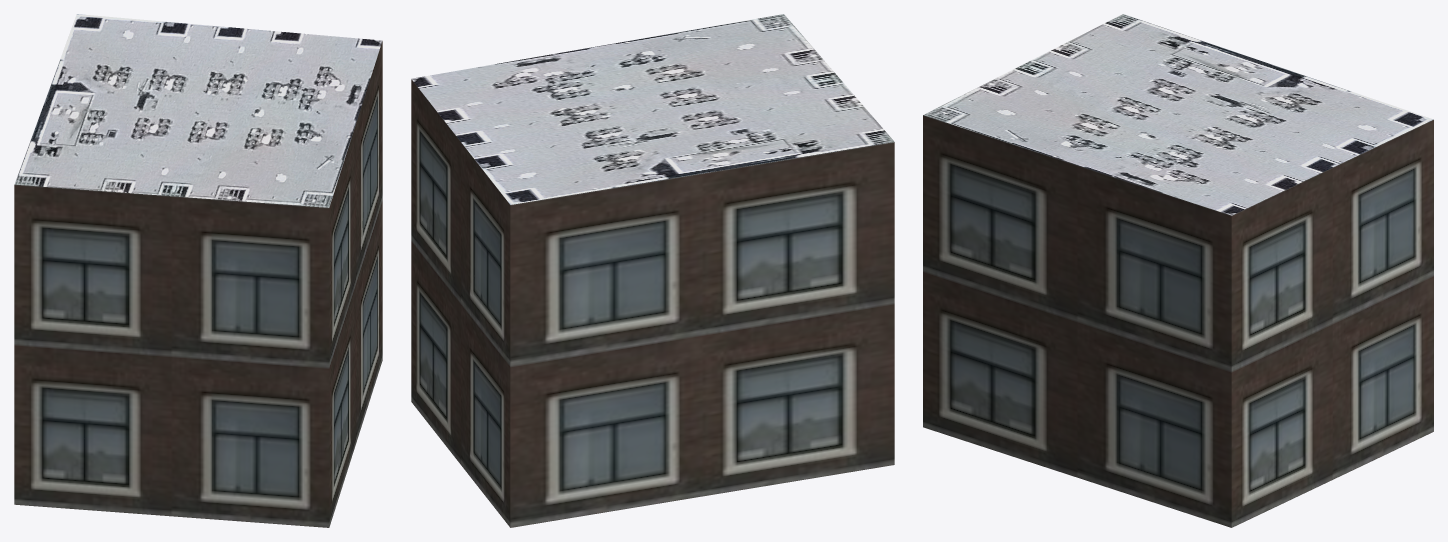
Rendered from ResTex__1924.fbx.
3 renders of one model, left to right at view 1: azimuth 30°, elevation 25°; view 2: azimuth 150°, elevation 25°; view 3: azimuth 270°, elevation 25°, orthographic. The views are drawn at different scales.
Visible parts, largest first — view 1: CityEngineMaterial_16_m, CityEngineMaterial_15_m; view 2: CityEngineMaterial_16_m, CityEngineMaterial_15_m; view 3: CityEngineMaterial_16_m, CityEngineMaterial_15_m.
Boxes of the visible parts, bbox=[...] form: CityEngineMaterial_16_m: bbox=[14, 41, 382, 527]; CityEngineMaterial_15_m: bbox=[14, 14, 382, 207]; CityEngineMaterial_16_m: bbox=[411, 79, 894, 527]; CityEngineMaterial_15_m: bbox=[411, 14, 894, 204]; CityEngineMaterial_16_m: bbox=[923, 115, 1433, 527]; CityEngineMaterial_15_m: bbox=[923, 14, 1433, 215].
Size of the model in its own units: 8.31 by 6 by 8.9.
Materials: 2 (2 with a texture image).
